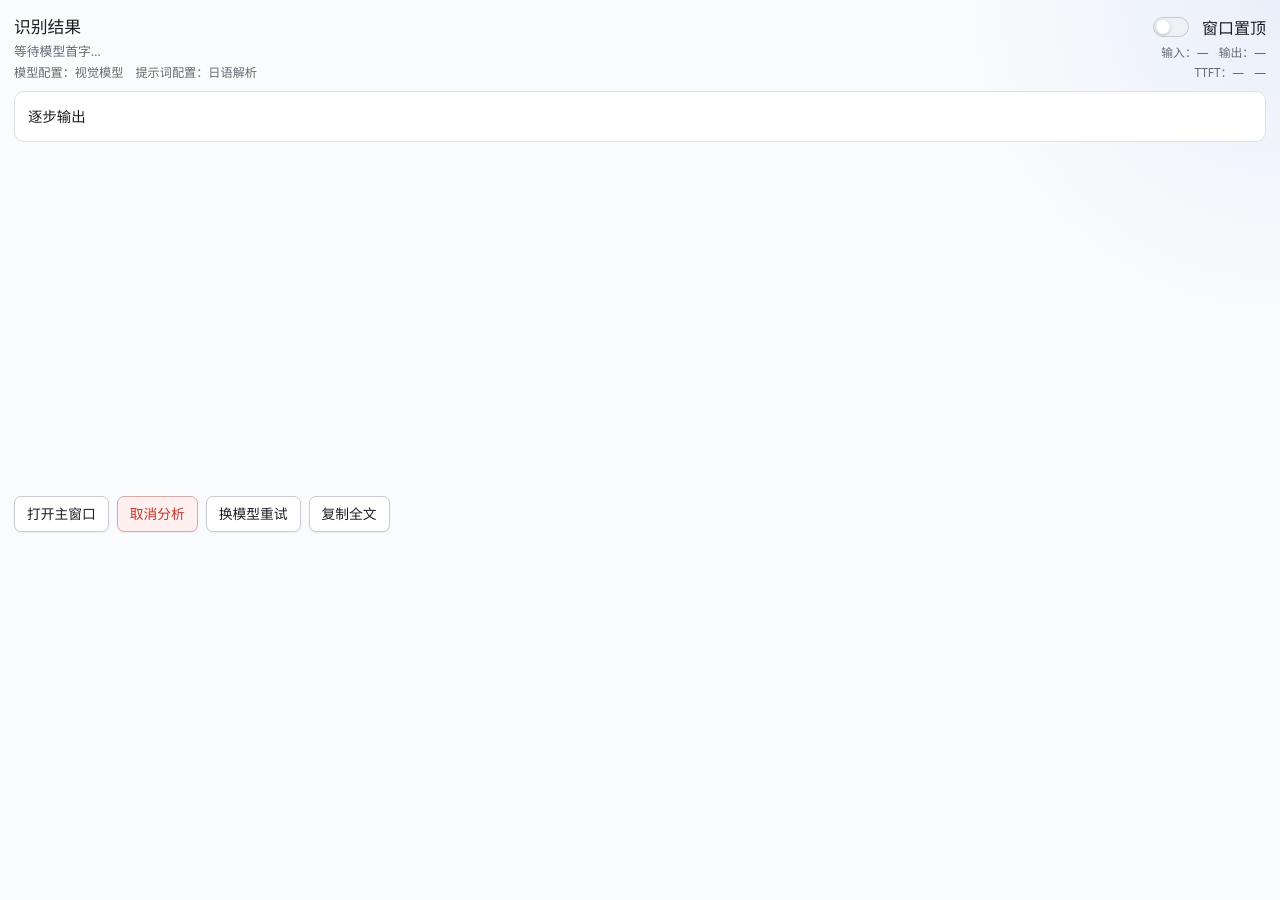
Test: Result › starts a selected-model retry from submitting without replacing the source
Expected: the footer "换模型重试" is shown, [14,496,390,532]
Click the button "换模型重试" at (253, 514), box [206,496,301,532]
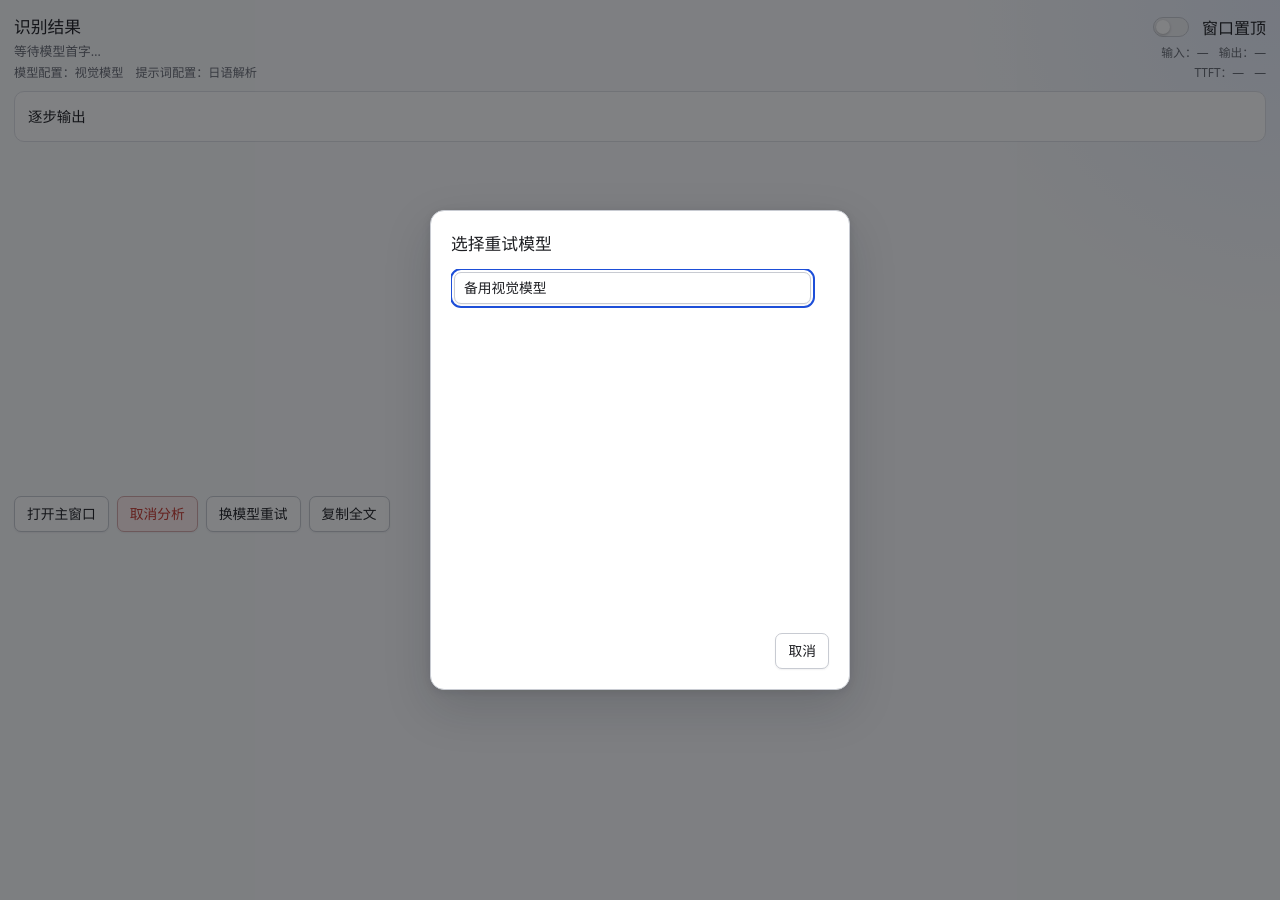
Click the button "备用视觉模型" at (505, 287), box [454,272,811,304]
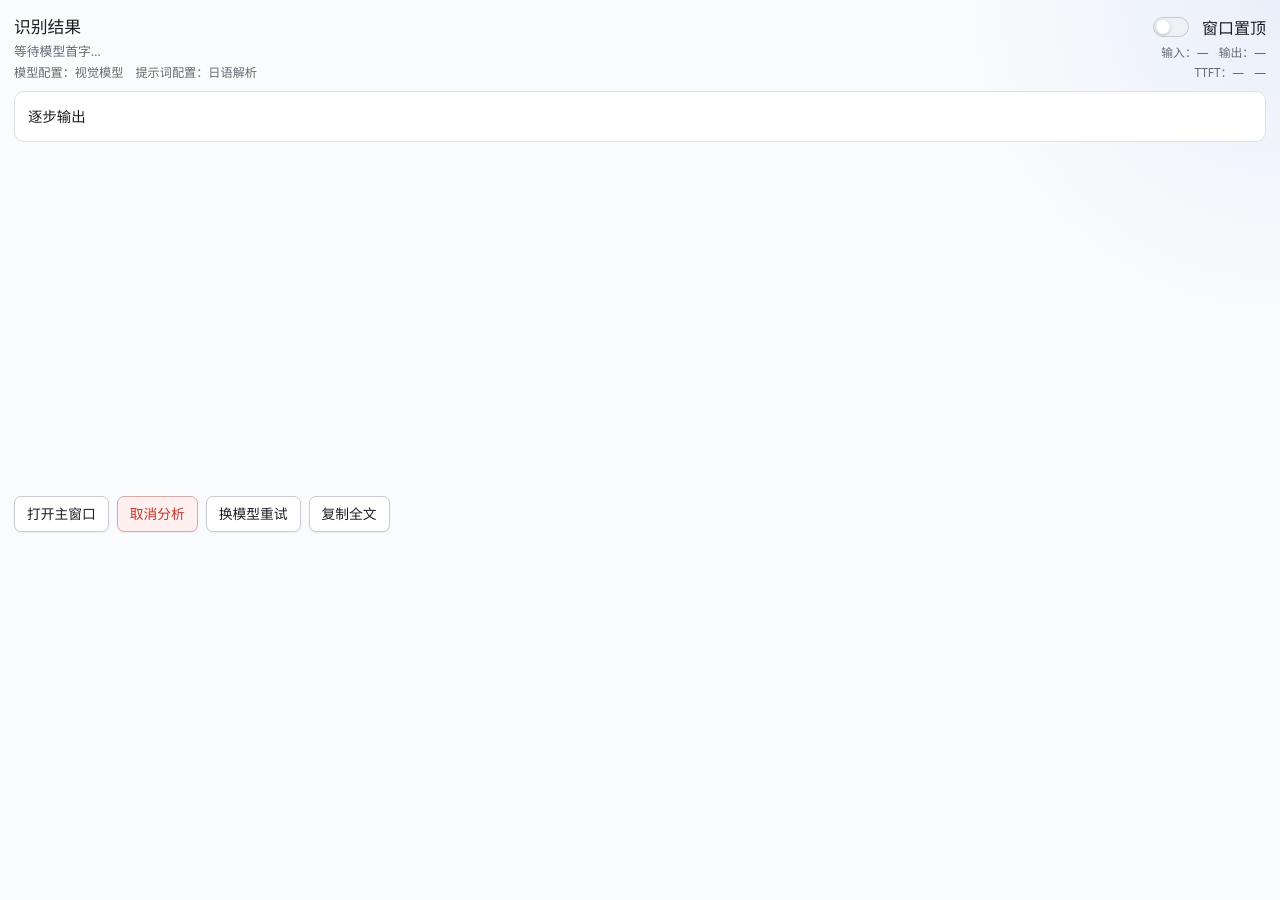
Expected: the text "逐步输出" is shown, [14,91,1266,142]
Now the dialog is gone
